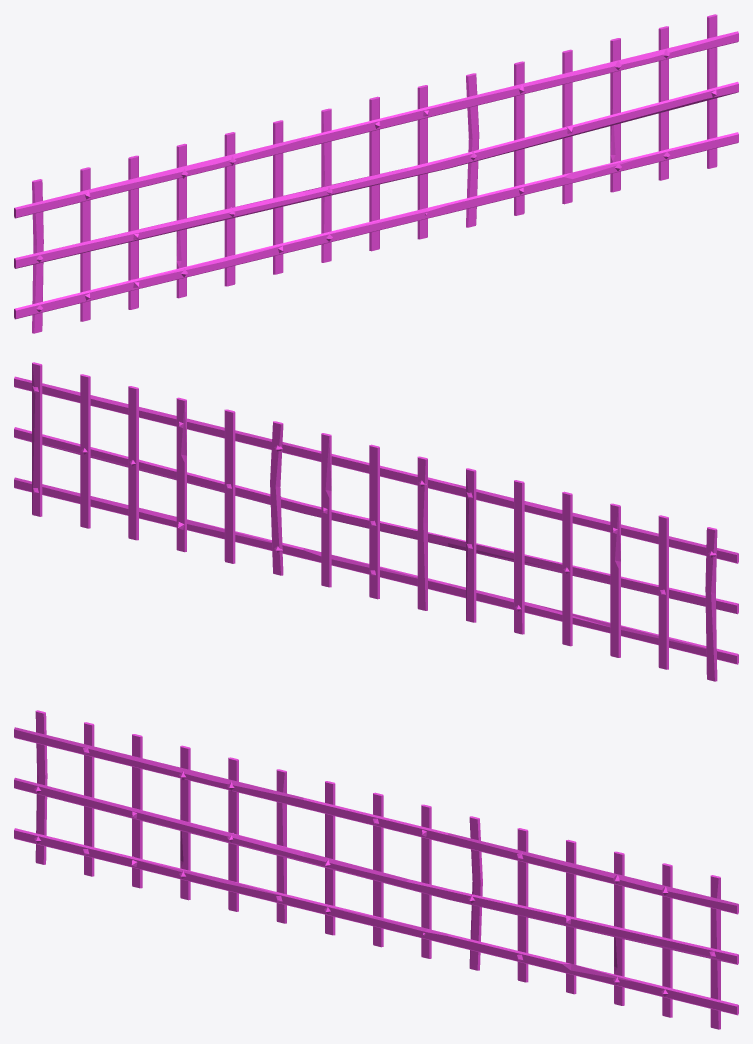
The model's file is SM_Wall_Bars_5x1m_Fantasy.fbx.
The picture shows the model from 3 angles, top to bottom: view 1: azimuth 30°, elevation 25°; view 2: azimuth 150°, elevation 25°; view 3: azimuth 330°, elevation 25°; orthographic projection.
Visible parts, largest first — view 1: SM_Wall_Bars_5x1m_Fantasy; view 2: SM_Wall_Bars_5x1m_Fantasy; view 3: SM_Wall_Bars_5x1m_Fantasy.
Boxes of the visible parts, box(x1,y1,x2,y2) form: SM_Wall_Bars_5x1m_Fantasy: box(14, 14, 738, 333); SM_Wall_Bars_5x1m_Fantasy: box(14, 362, 738, 681); SM_Wall_Bars_5x1m_Fantasy: box(14, 710, 738, 1029).
Size of the model in its own units: 5 by 1 by 0.1122.
